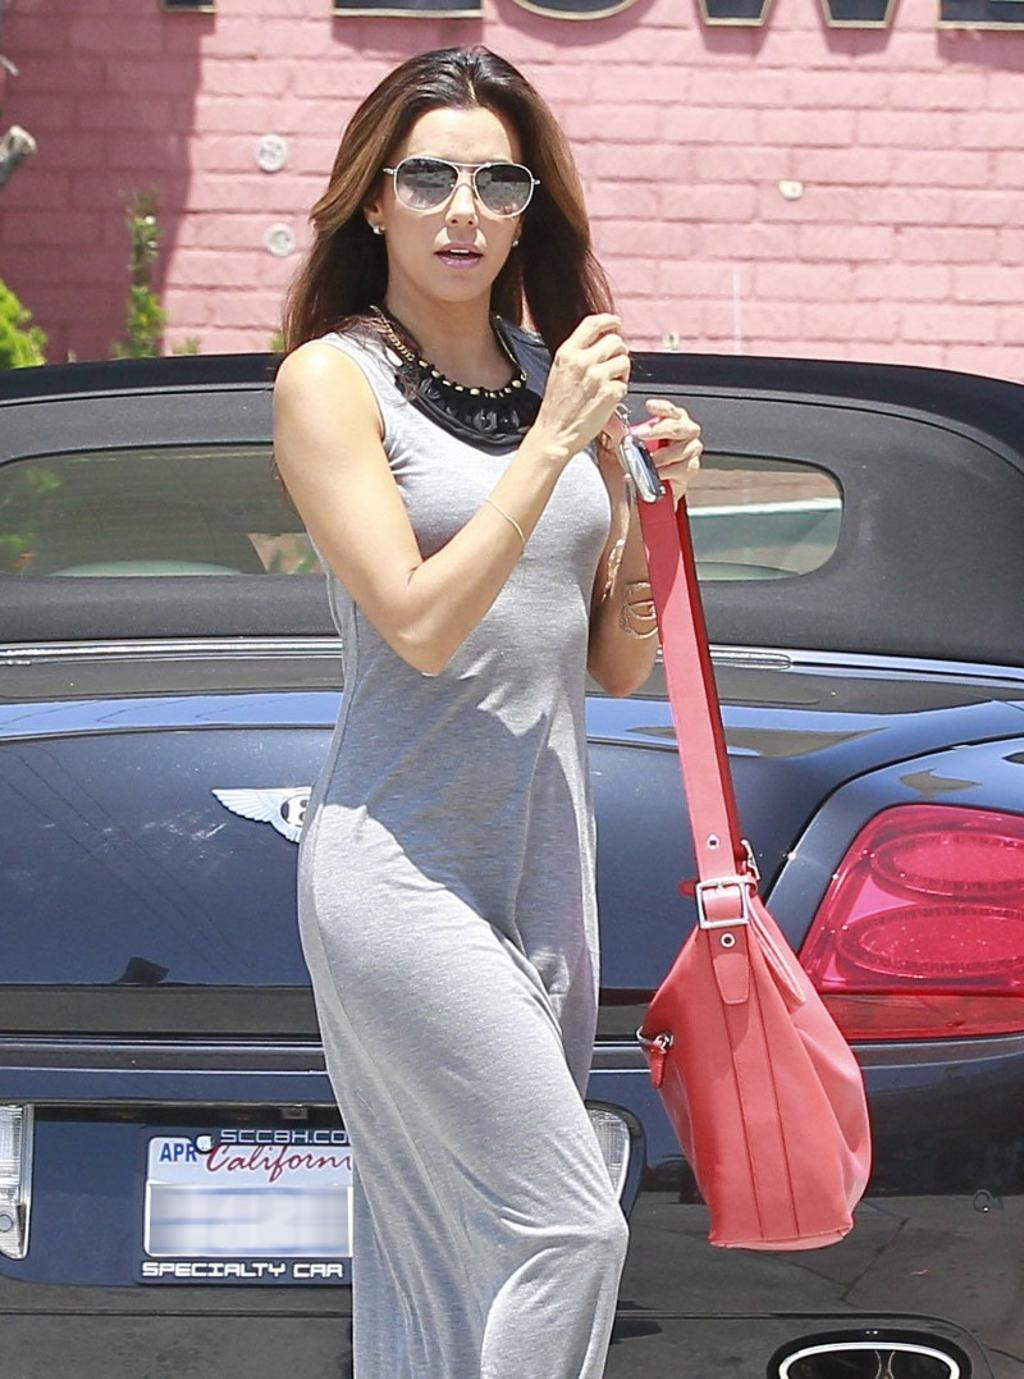face: (383, 108, 526, 305)
